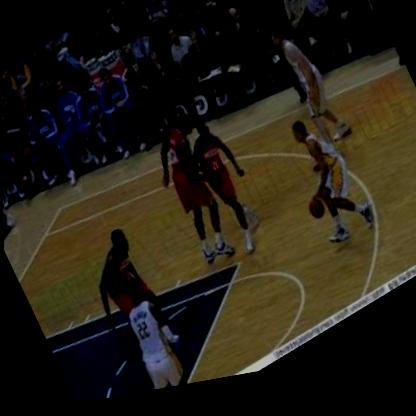basketball: (300, 199, 330, 237)
